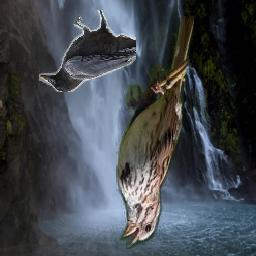Crow: (40, 10, 137, 92)
Sparrow: (116, 17, 194, 250)
